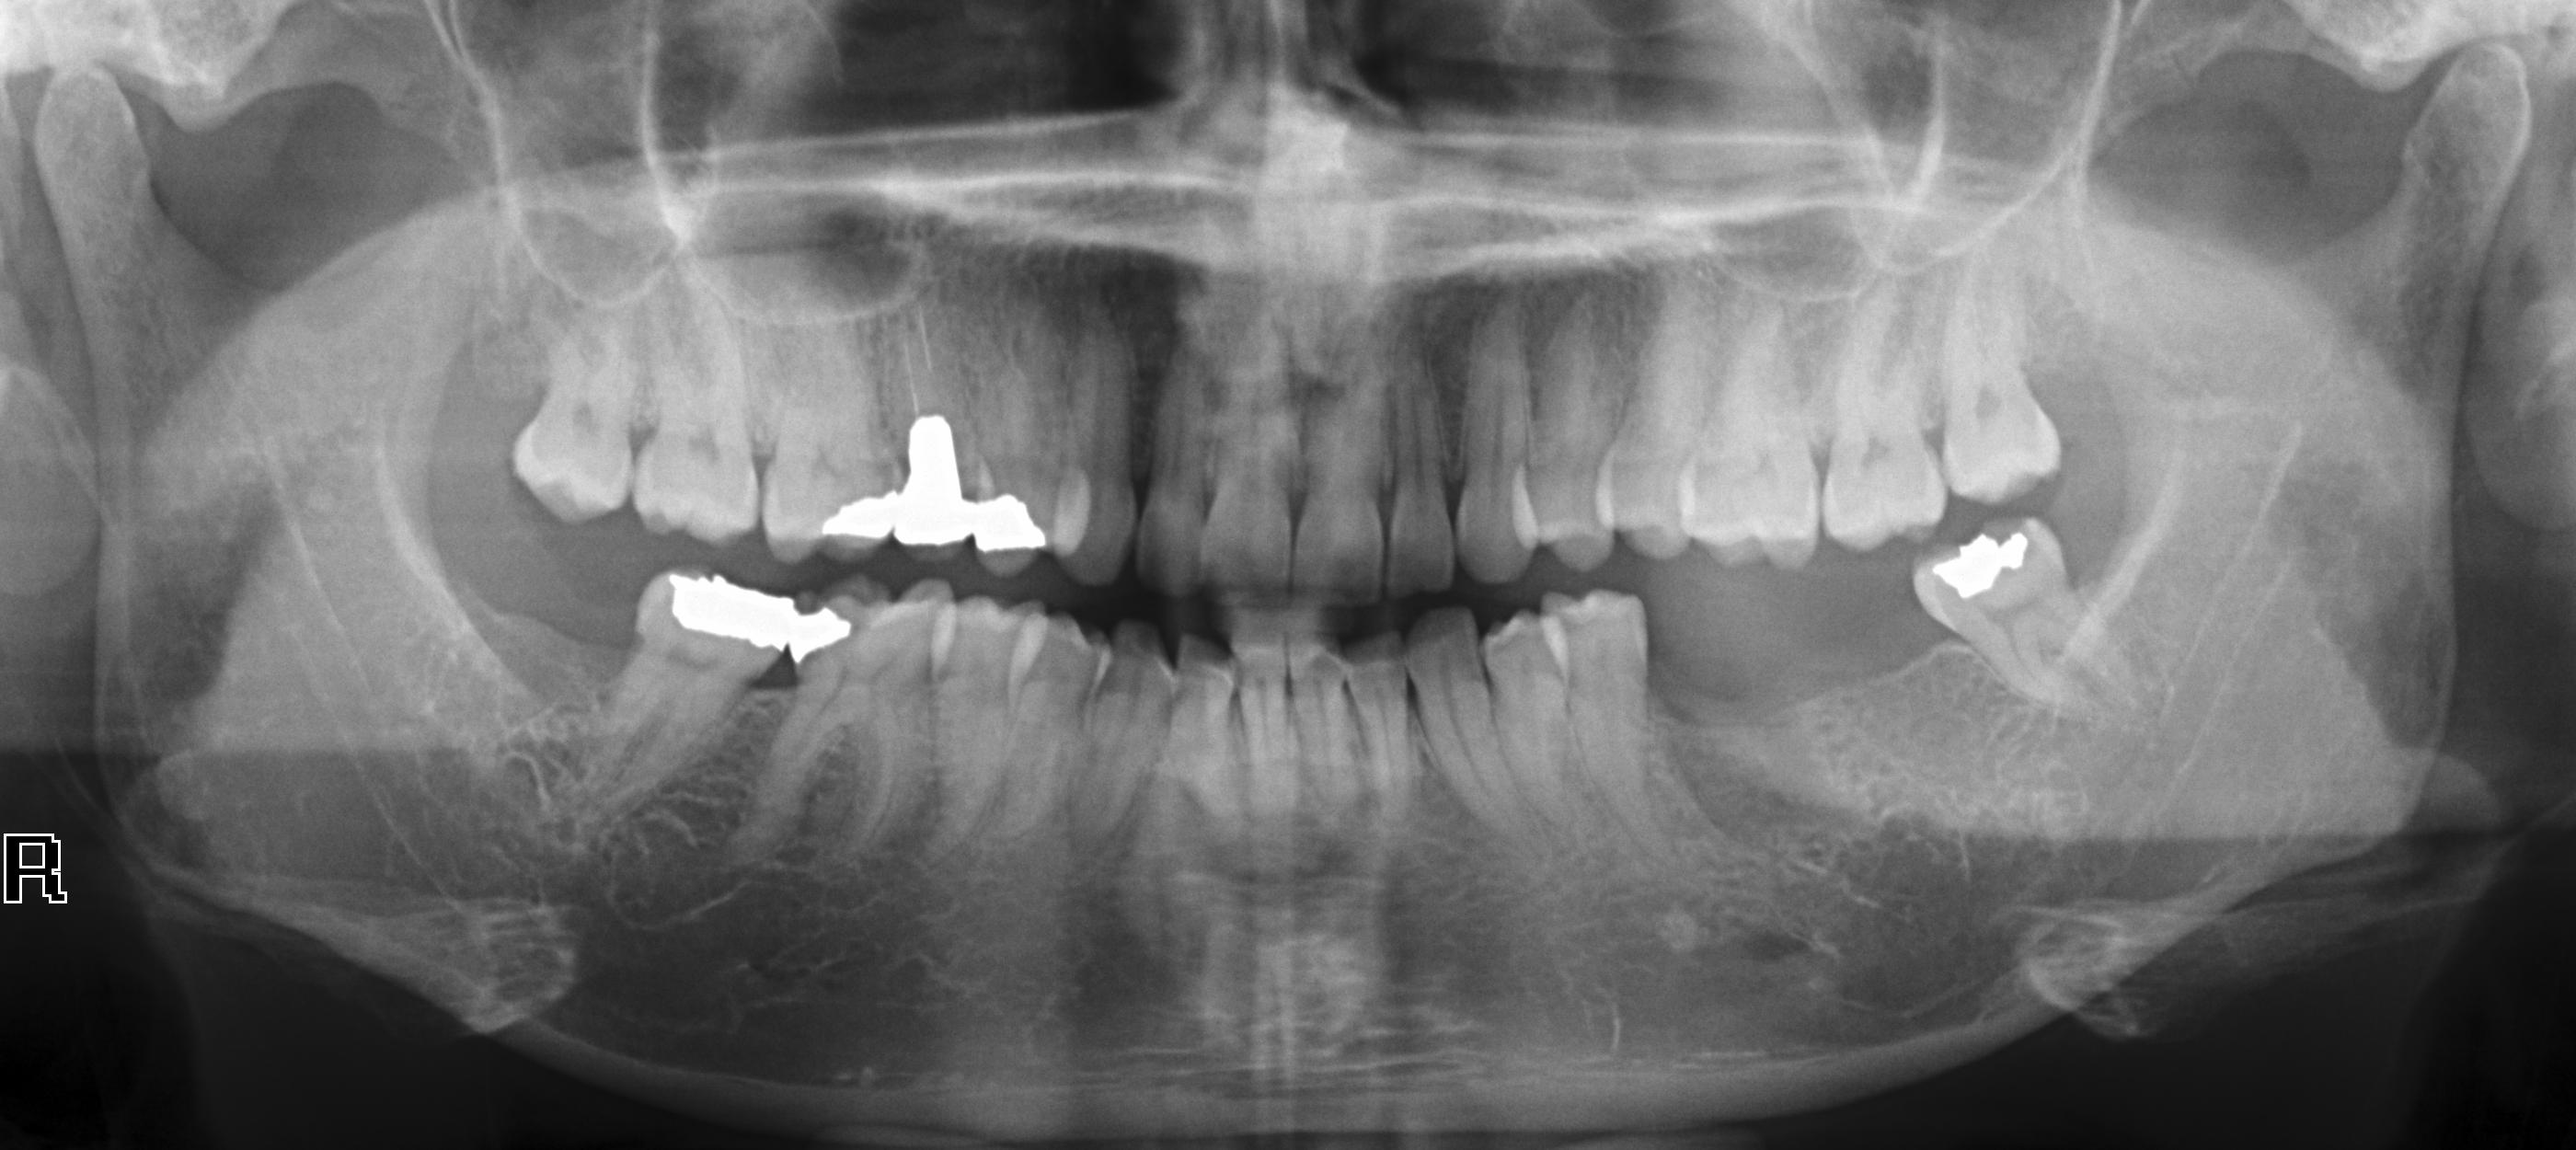Çürük: (662, 565, 784, 654), (904, 412, 964, 563), (784, 586, 871, 667), (1917, 531, 2016, 596), (971, 490, 1050, 554), (821, 488, 897, 544), (1055, 460, 1091, 565)
Çürük Bölgesi: (2011, 524, 2063, 596), (802, 634, 864, 672)
